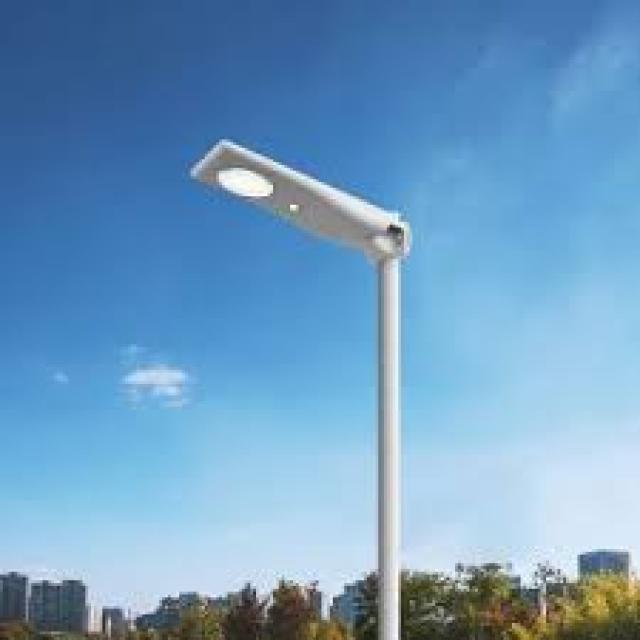Street Light: (188, 139, 410, 640)
